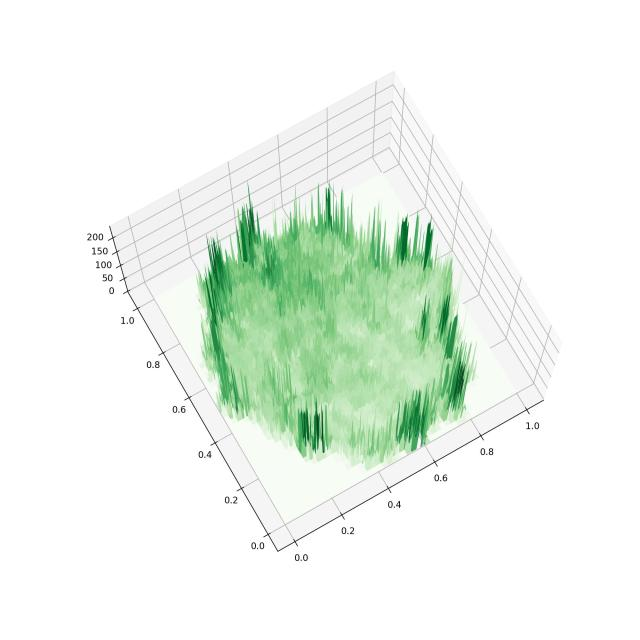fir: (54, 39, 590, 600)
